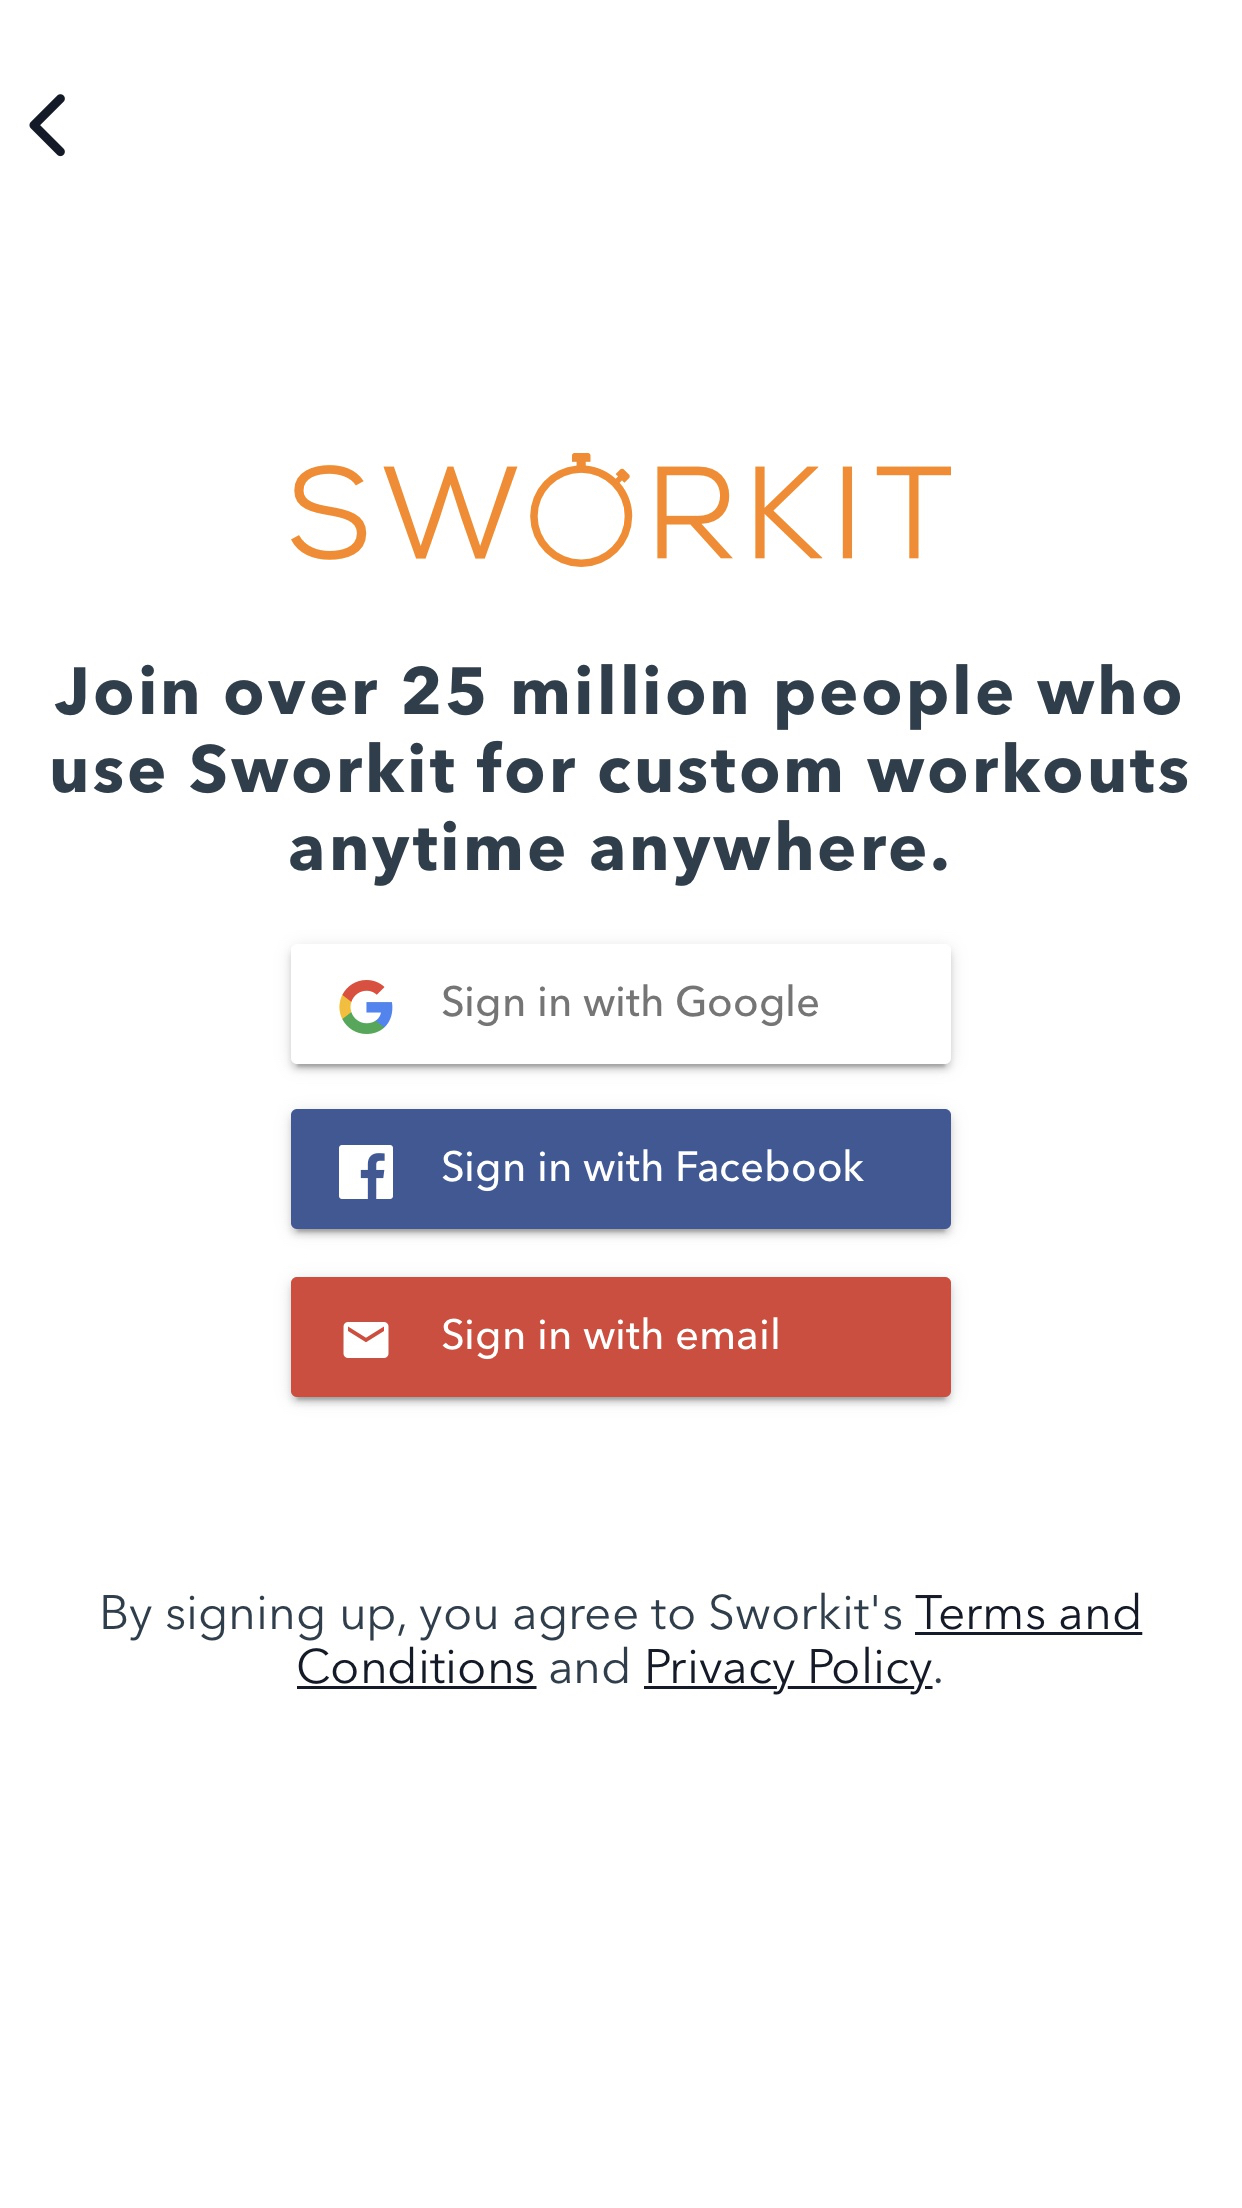Icon: (29, 94, 67, 158)
Image: (290, 450, 952, 570)
Text: (52, 663, 1187, 889), (103, 1592, 1143, 1695)
TextButton: (291, 943, 952, 1065), (291, 1109, 952, 1230), (291, 1277, 952, 1398)
